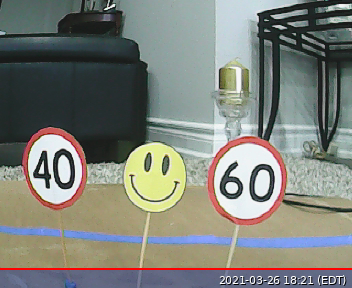Person: (123, 141, 187, 212)
Speed Limit 40: (23, 127, 87, 211)
Speed Limit 60: (208, 136, 287, 225)
